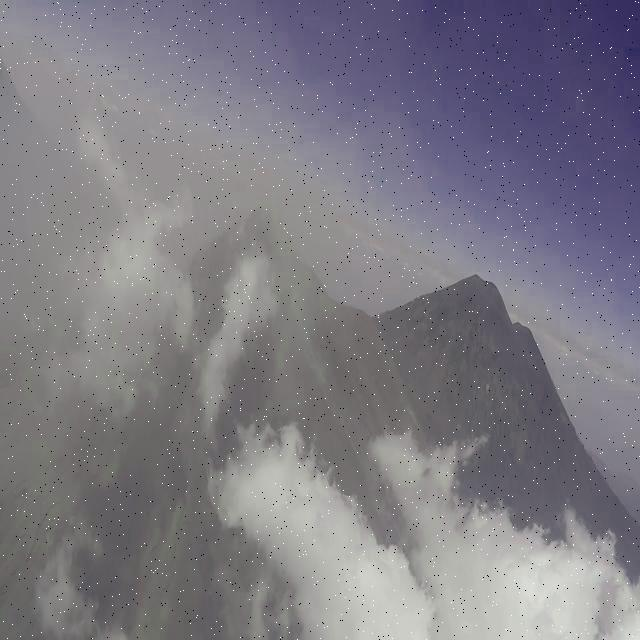Summit: (185, 194, 334, 348)
